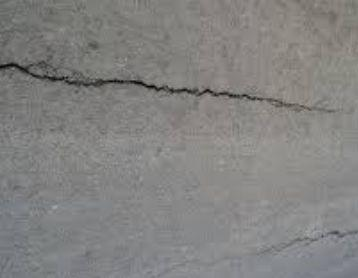crack: (0, 61, 338, 118), (255, 226, 353, 260)
